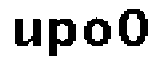0: (117, 1, 153, 56)
P: (47, 13, 77, 60)
o: (83, 15, 113, 50)
u: (11, 14, 44, 56)
